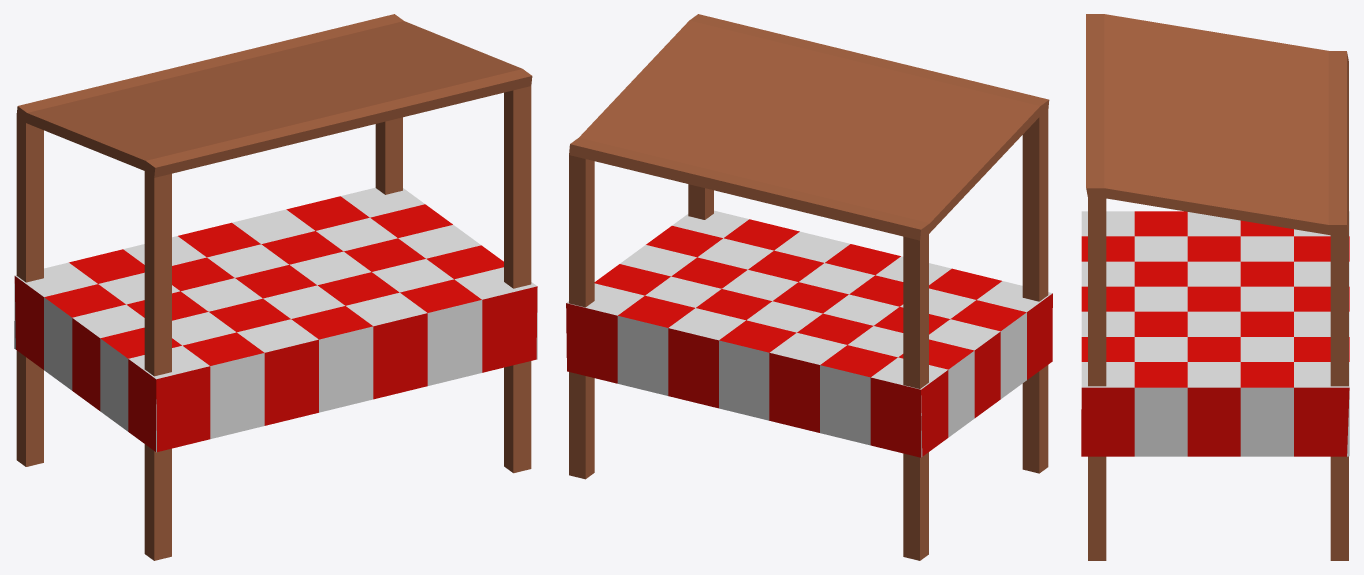
Rendered from FarmStand_TFSGJ_Spring2025.fbx.
3 views of the same model, side by side, from view 1: azimuth 30°, elevation 25°; view 2: azimuth 150°, elevation 25°; view 3: azimuth 270°, elevation 25° (orthographic). The views are drawn at different scales.
Parts seen in each view (by area): view 1: Cube.003; view 2: Cube.003; view 3: Cube.003.
Part boxes in pixels (x1,y1,x2,y2): Cube.003: (14, 14, 537, 560); Cube.003: (566, 14, 1052, 560); Cube.003: (1081, 14, 1349, 560).
Size of the model in its own units: 104 by 103 by 67.06.
